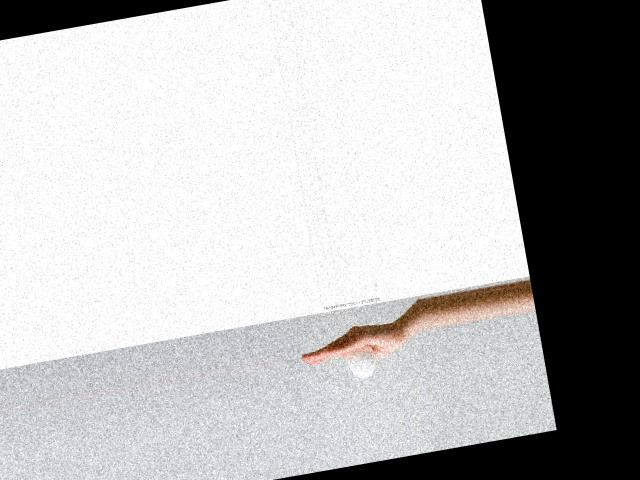egg: (345, 343, 377, 380)
